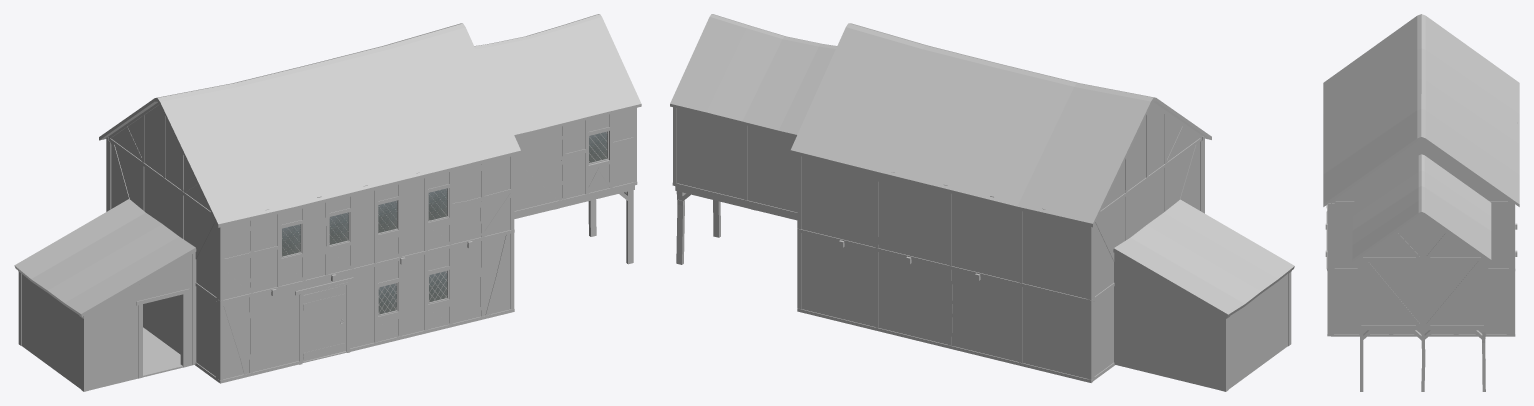
File: House.fbx
3 renders of one model, left to right at view 1: azimuth 30°, elevation 25°; view 2: azimuth 150°, elevation 25°; view 3: azimuth 270°, elevation 25°, orthographic. The views are drawn at different scales.
Visible parts, largest first — view 1: floor_3, floor_2, floor_1, Barn, Barn_roof, Door, Window_3, Window_4, Window_2, Window_1, Window_5, Window_6 (+2 smaller); view 2: floor_3, floor_2, floor_1, Barn, Barn_roof; view 3: floor_3, floor_2, floor_1.
Part boxes in pixels (x1,y1,x2,y2): floor_3: [99, 14, 641, 227]; floor_2: [106, 108, 637, 300]; floor_1: [195, 229, 514, 383]; Barn: [18, 252, 196, 391]; Barn_roof: [14, 199, 196, 316]; Door: [303, 285, 345, 361]; Window_3: [281, 224, 302, 258]; Window_4: [329, 212, 350, 246]; Window_2: [428, 269, 448, 304]; Window_1: [378, 282, 398, 316]; Window_5: [378, 200, 398, 234]; Window_6: [428, 188, 448, 222]; floor_3: [670, 14, 1211, 227]; floor_2: [672, 107, 1204, 299]; floor_1: [797, 228, 1114, 382]; Barn: [1114, 253, 1291, 391]; Barn_roof: [1113, 199, 1294, 317]; floor_3: [1323, 14, 1519, 261]; floor_2: [1325, 201, 1517, 391]; floor_1: [1327, 204, 1515, 336].
Size of the model in its own units: 2154 by 916 by 806.
